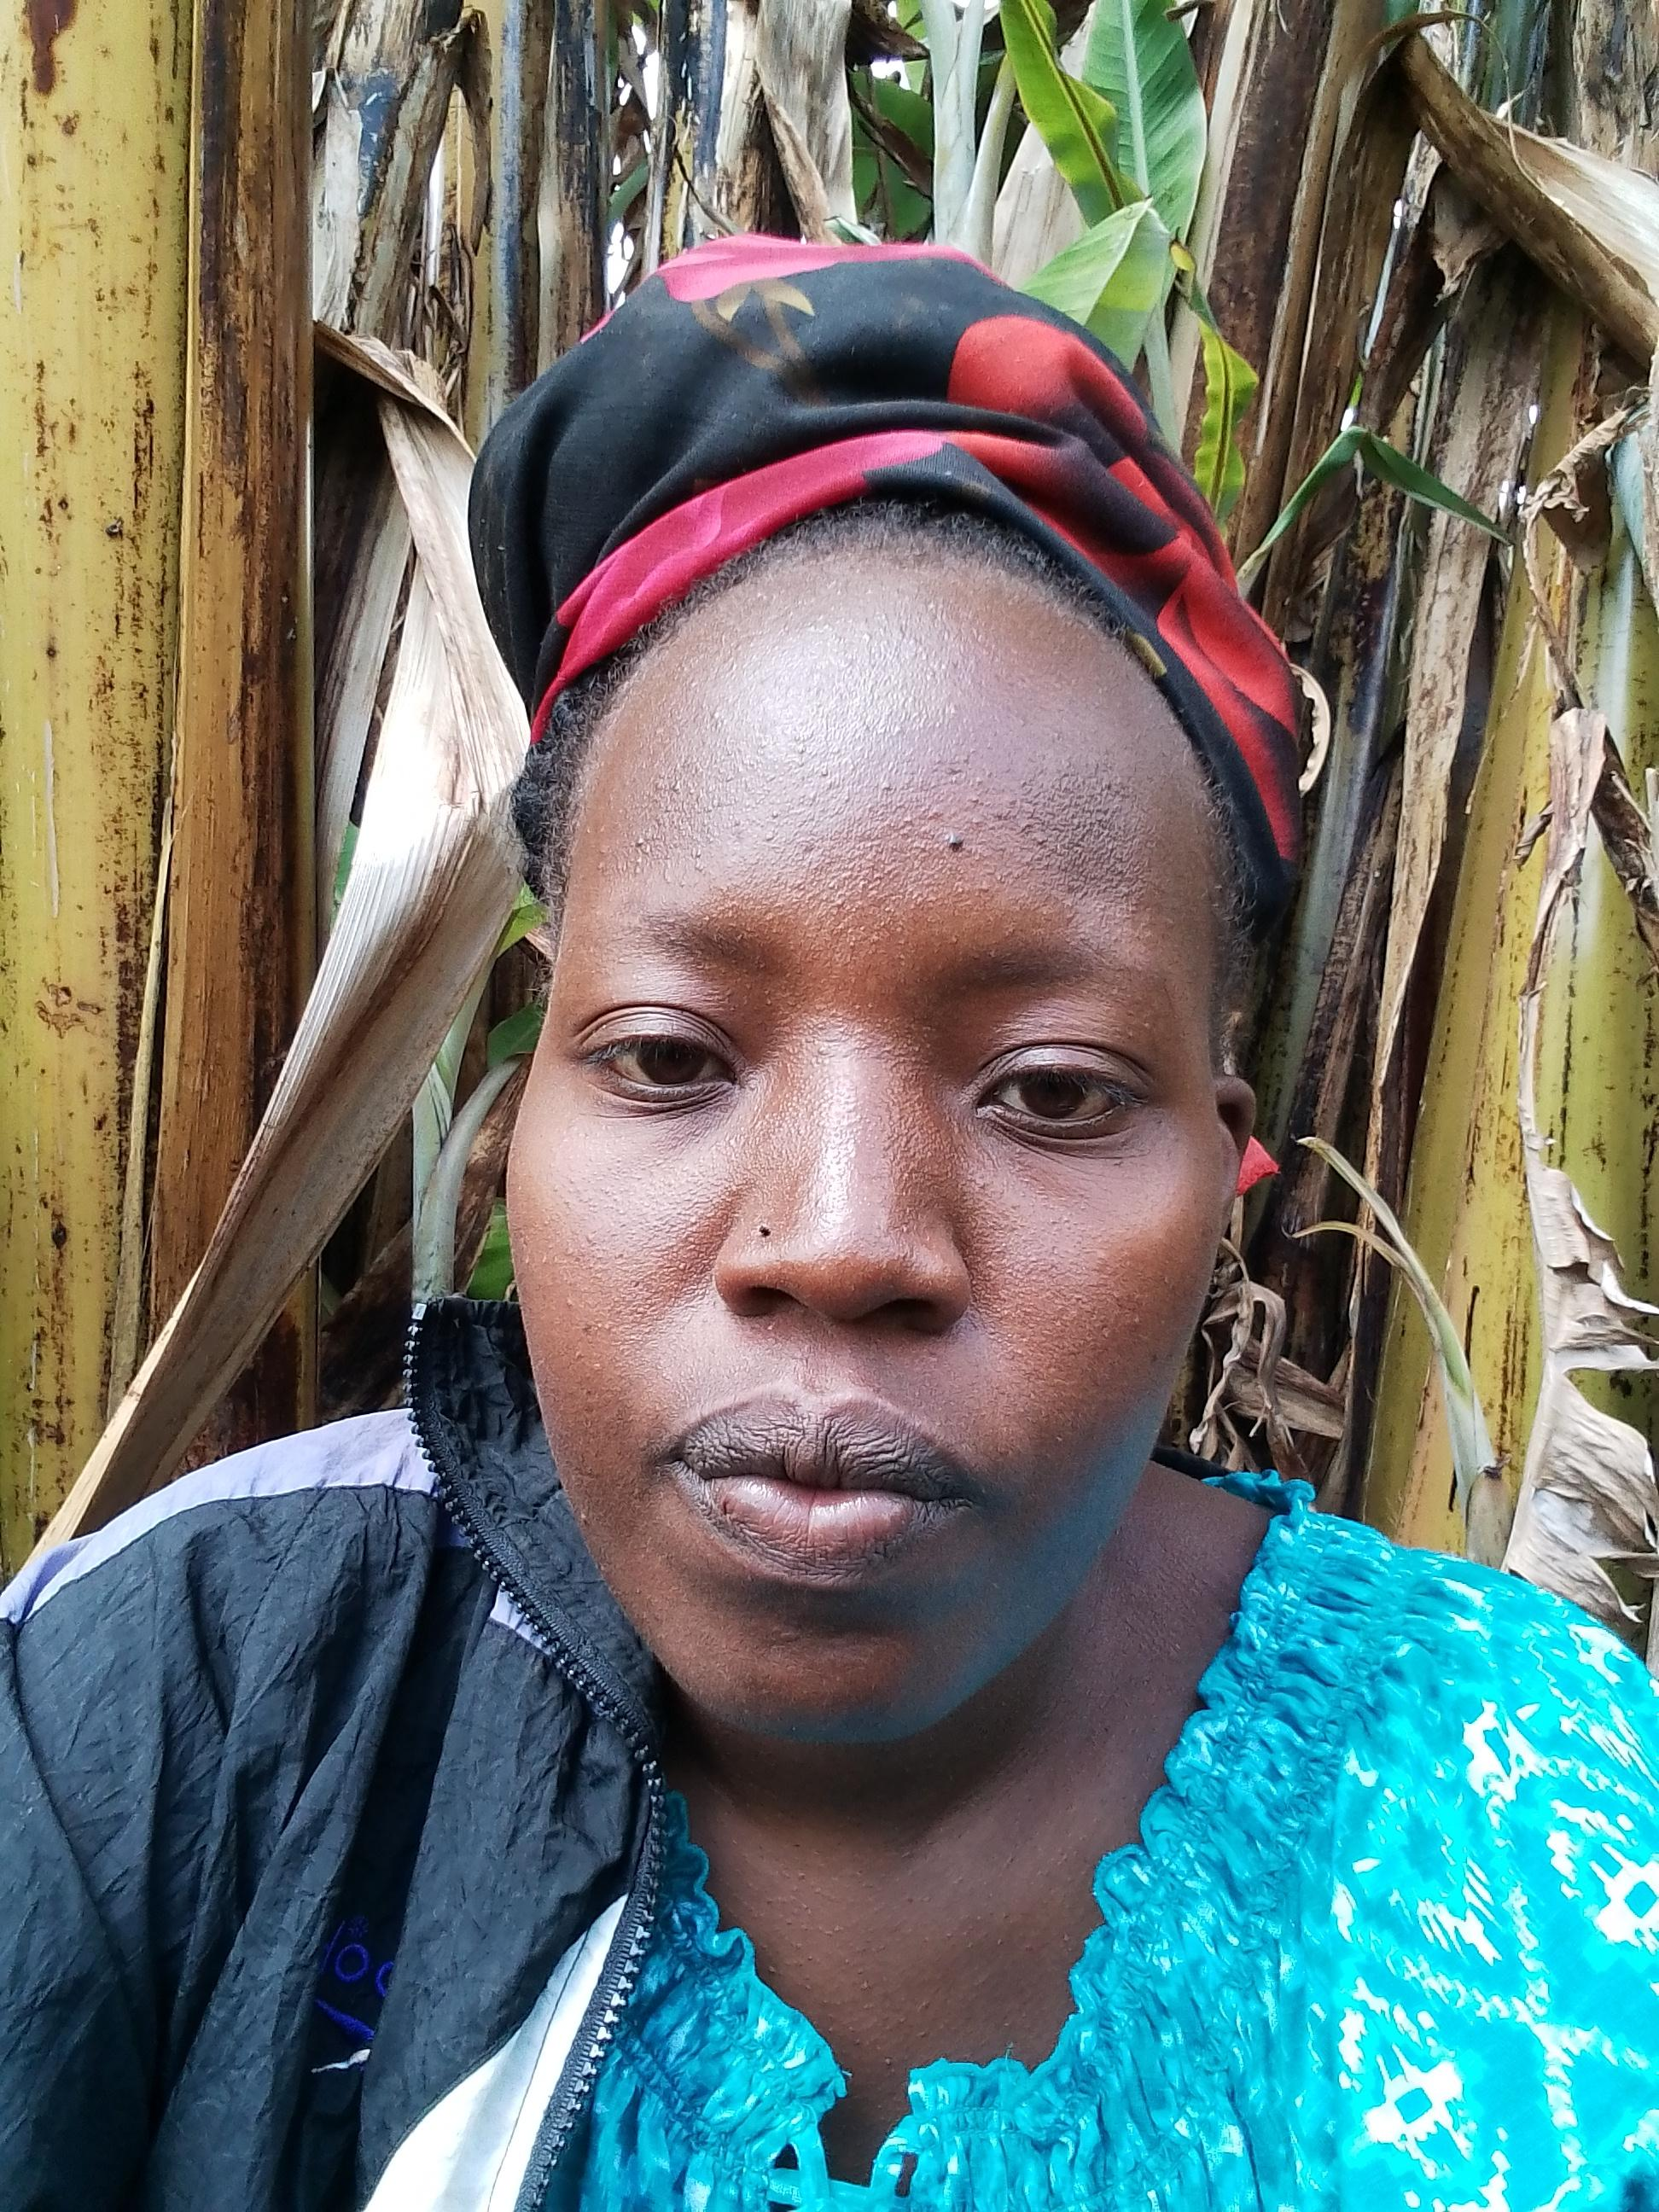Dry-Skin: (1009, 765, 1145, 907), (629, 773, 711, 874)
